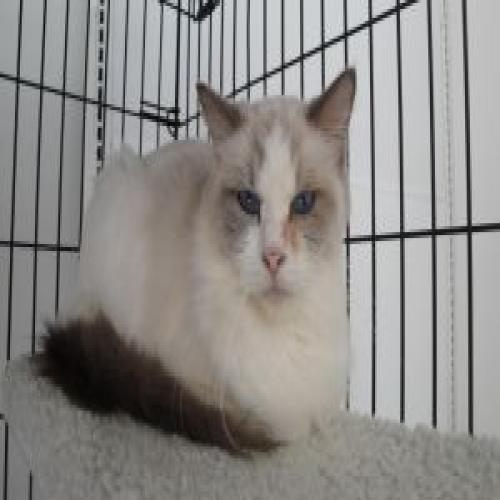ragdoll: (192, 65, 363, 331)
